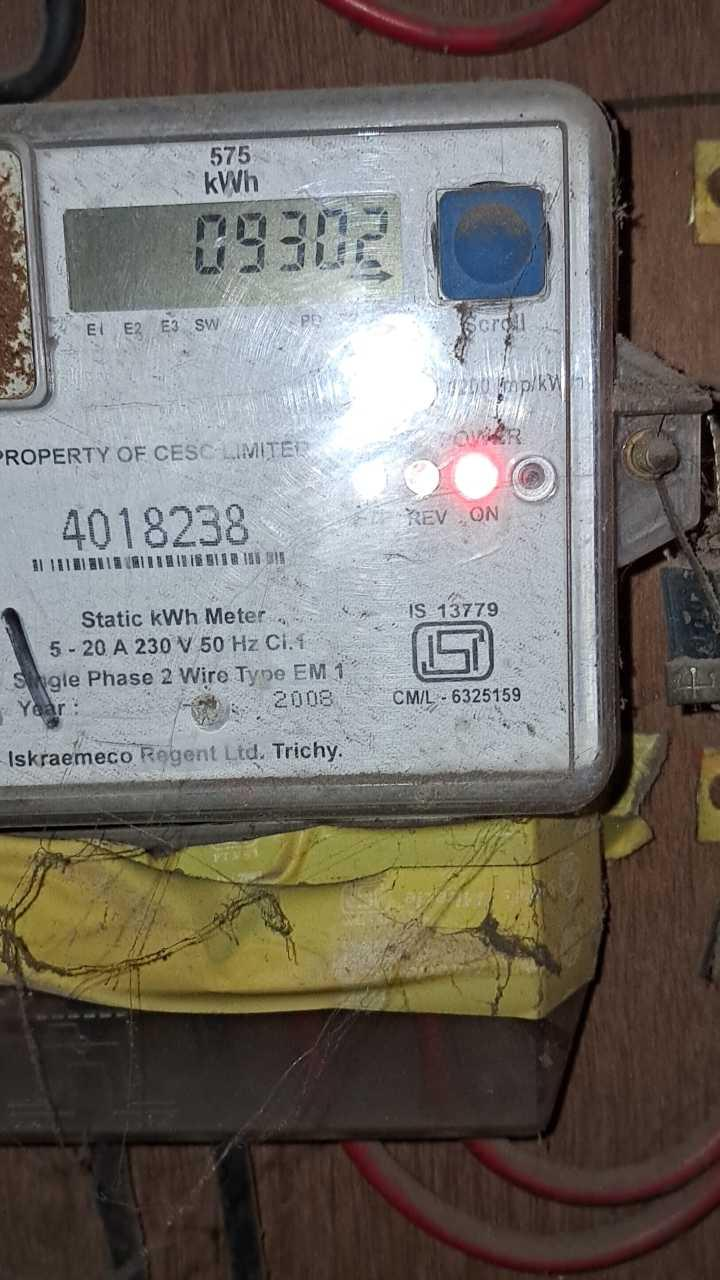meter_readings: (190, 205, 388, 278)
serial_number: (58, 501, 259, 549)
